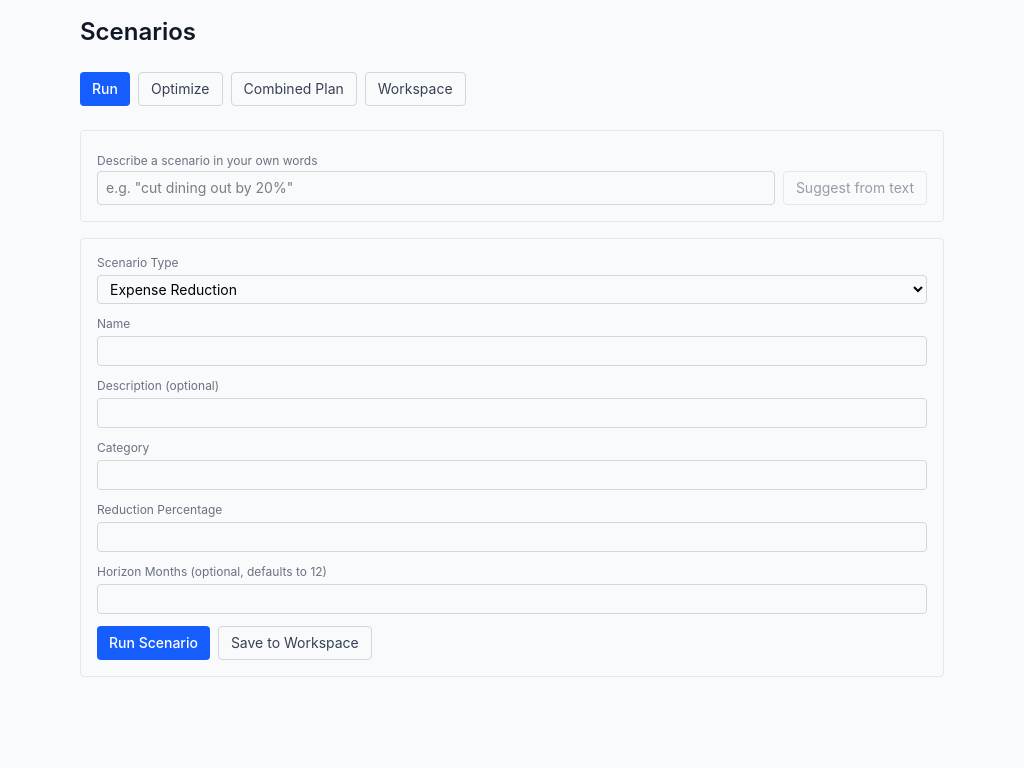
Test case: ScenariosPage › parses free text and prefills the run form without auto-running
Type "save an extra $100 a month" into the field labelled "Describe a scenario in your own words".
click(436, 188); type("save an extra $100 a month")  # box [97, 171, 775, 205]
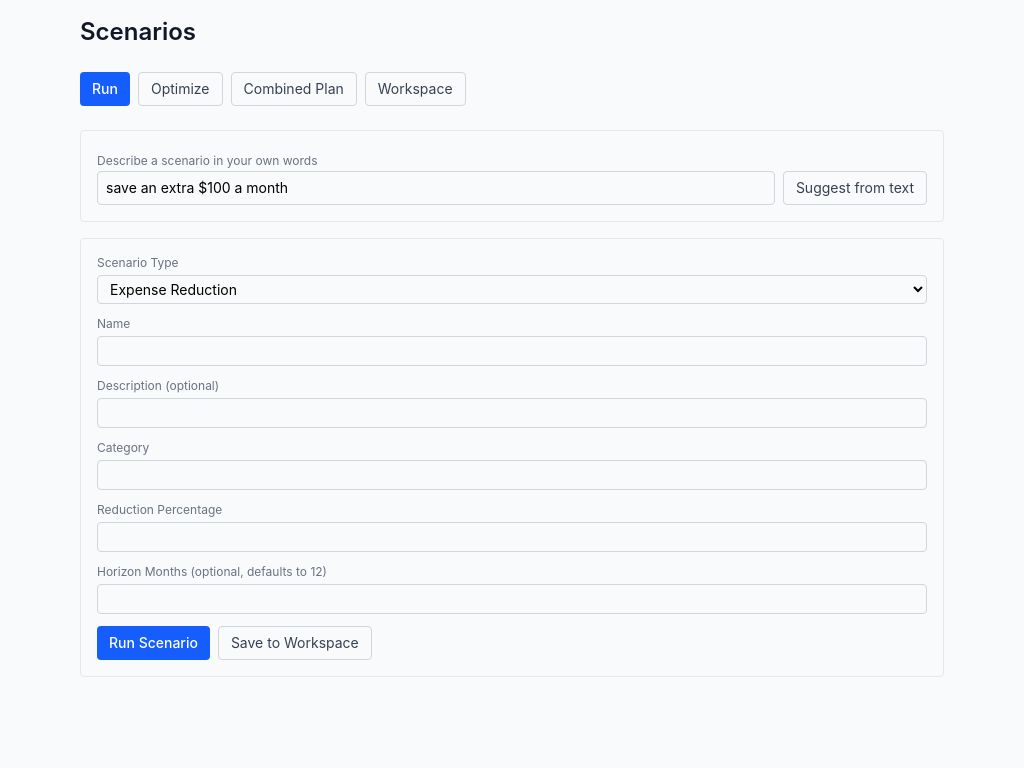
Click the button "Suggest from text".
click(855, 188)  # box [783, 171, 927, 205]
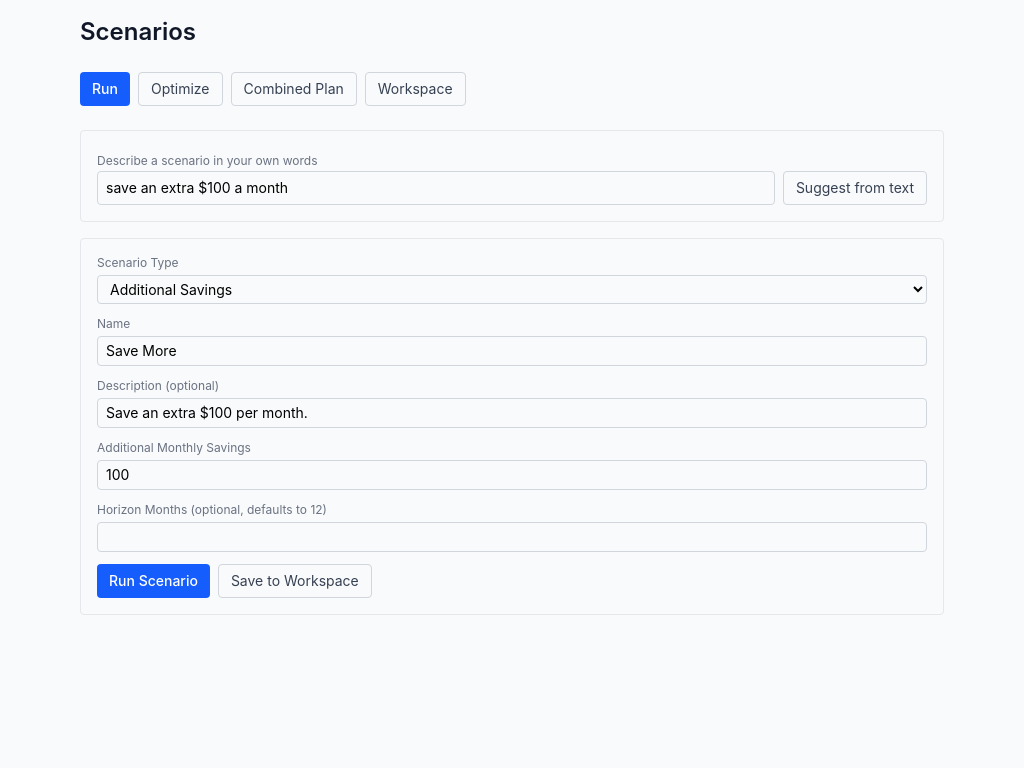
Check: the field labelled "Name" holds "Save More", box [97, 336, 927, 366]
Check: the dropdown labelled "Scenario Type" shows "Additional Savings", box [97, 275, 927, 304]
Check: the number field labelled "Additional Monthly Savings" holds "100", box [97, 460, 927, 490]
